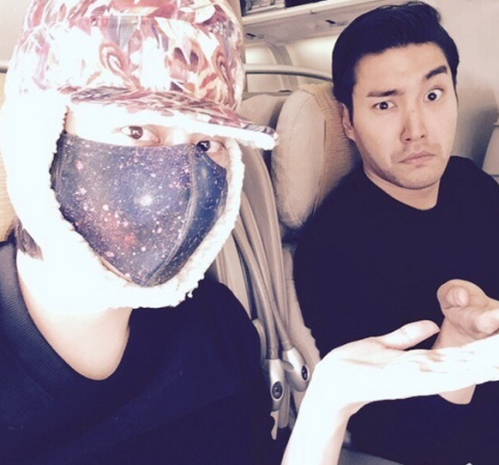face: (350, 44, 457, 186)
face_mask: (72, 70, 241, 288)
